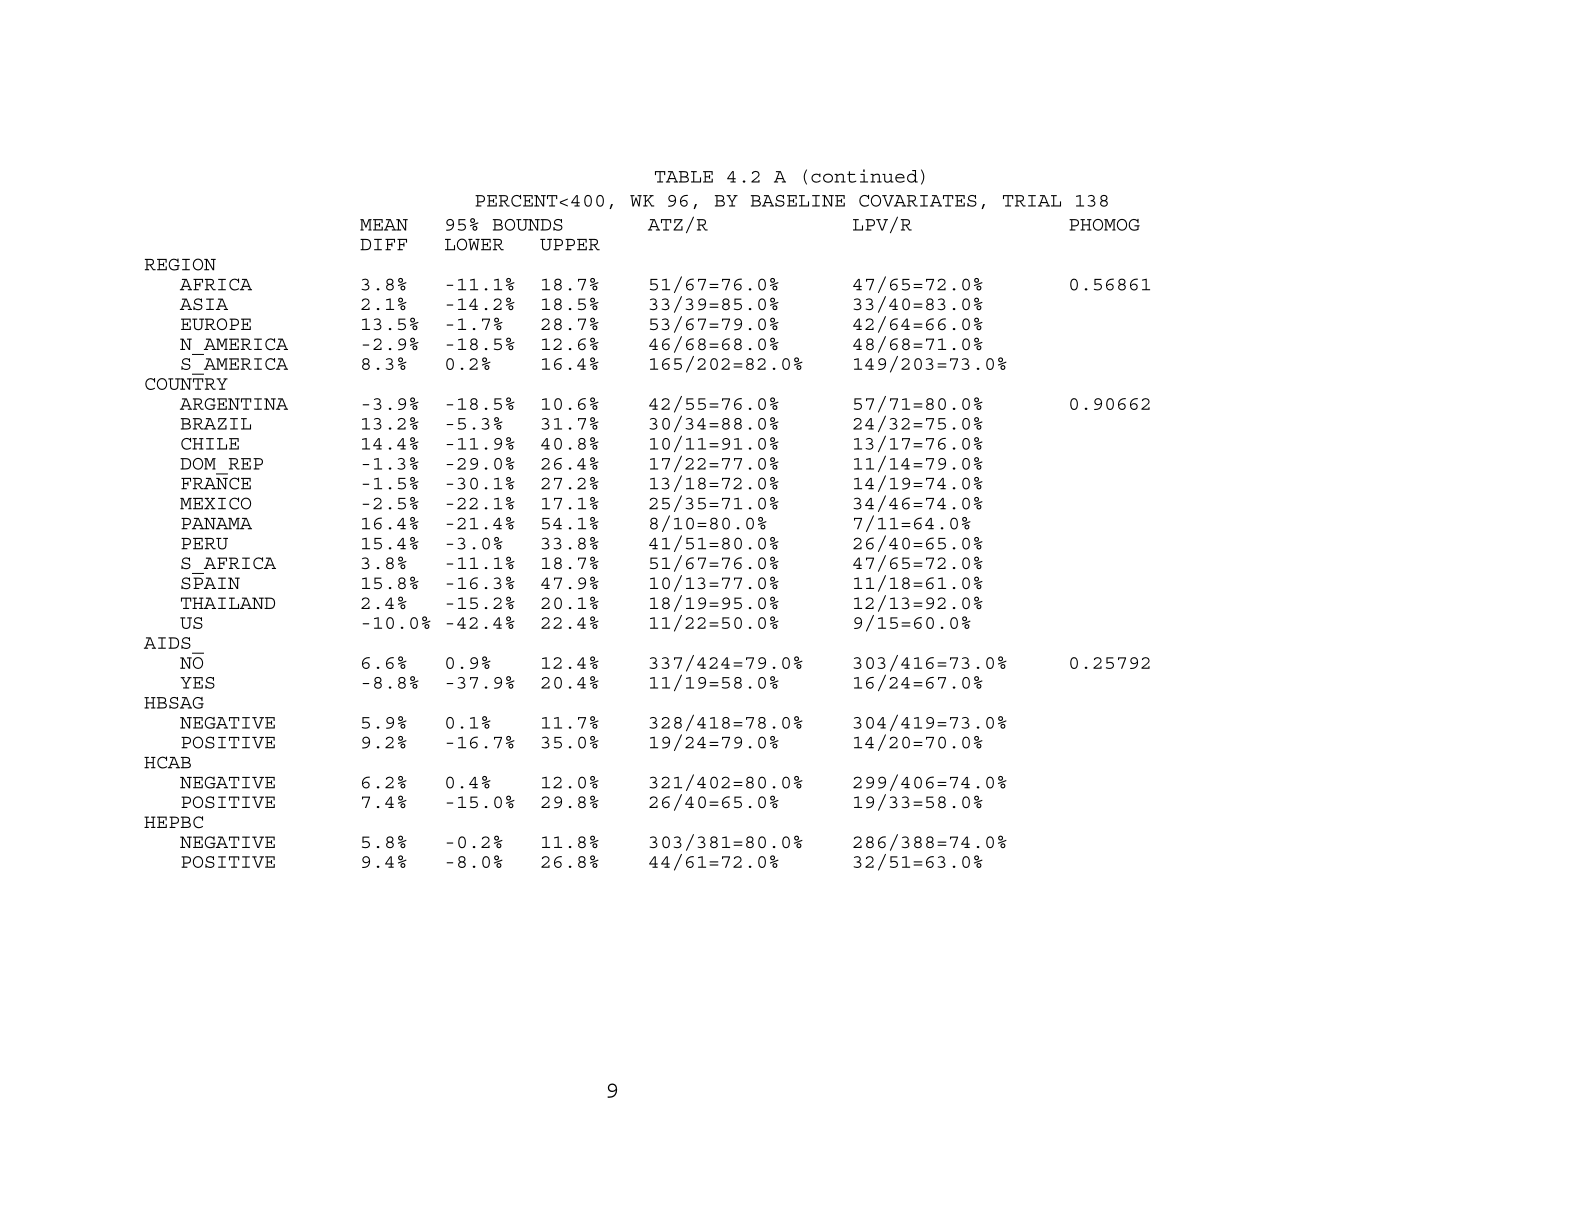nolines: (145, 219, 1149, 870)
